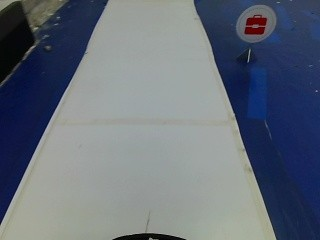company: (235, 3, 274, 44)
